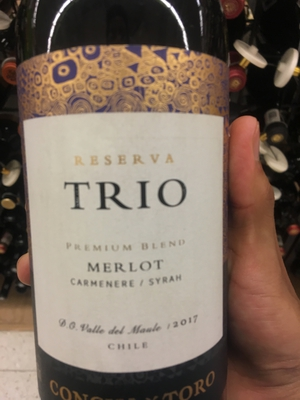trio merlot: (14, 11, 231, 400)
